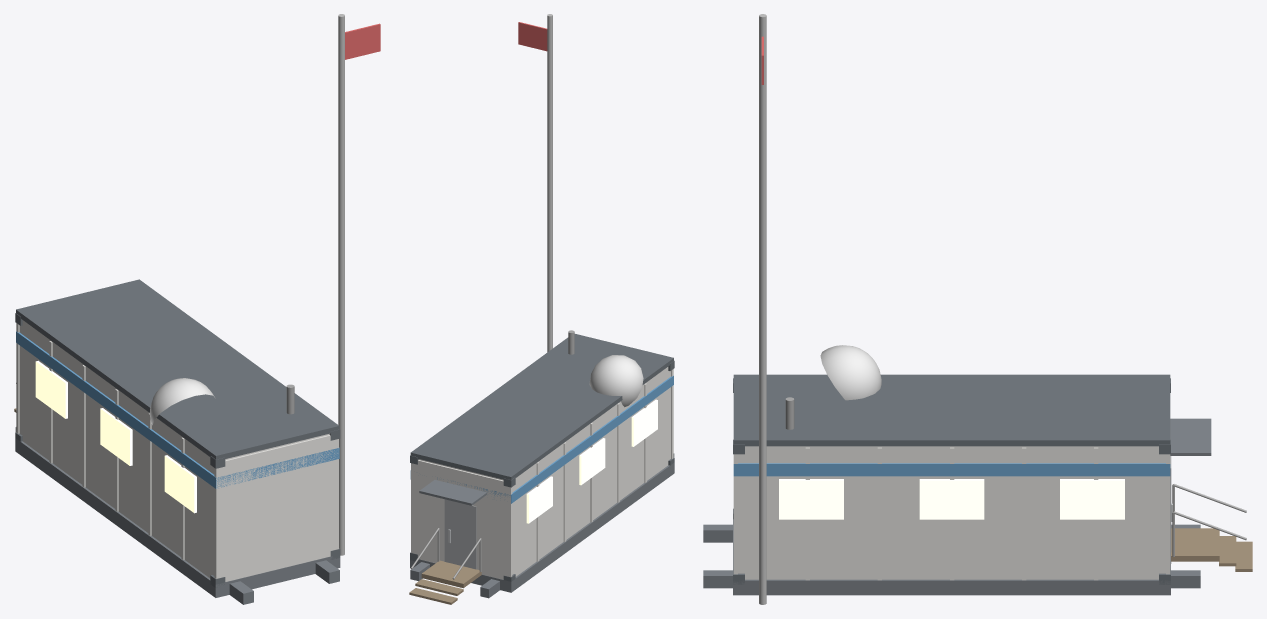
File: office.glb
The picture shows the model from 3 angles, left to right: view 1: azimuth 30°, elevation 25°; view 2: azimuth 150°, elevation 25°; view 3: azimuth 270°, elevation 25°; orthographic projection. The views are drawn at different scales.
Parts seen in each view (by area): view 1: object 10, object 1, object 9, object 2, object 11, object 31, object 13, object 14, object 12, object 33, object 32, inst; view 2: object 10, object 1, object 3, object 2, object 18, object 31, object 33, object 11, inst (×2), object 19, object 24, object 12 (+3 smaller); view 3: object 1, object 10, object 2, object 11, object 31, object 16, object 15, object 17, object 33, object 19, object 24, object 27 (+1 smaller).
Boxes of the visible parts, box(x1,y1,x2,y2) form: object 10: box(16, 279, 339, 459); object 1: box(19, 320, 329, 578); object 9: box(214, 435, 338, 581); object 2: box(15, 438, 340, 597); object 11: box(16, 331, 339, 488); object 31: box(338, 14, 344, 555); object 13: box(100, 408, 132, 465); object 14: box(164, 455, 196, 513); object 12: box(35, 360, 67, 418); object 33: box(149, 378, 215, 425); object 32: box(345, 23, 380, 59); inst: box(15, 313, 340, 587); object 10: box(410, 334, 673, 479); object 1: box(418, 367, 670, 576); object 3: box(411, 460, 512, 579); object 2: box(410, 462, 674, 592); object 18: box(444, 499, 476, 569); object 31: box(547, 14, 552, 352); object 33: box(589, 355, 643, 407); object 11: box(410, 375, 673, 503); inst (×2): box(409, 360, 674, 604); object 19: box(421, 560, 481, 588); object 24: box(419, 480, 486, 505); object 12: box(526, 476, 552, 523); object 1: box(738, 446, 1165, 579); object 10: box(733, 374, 1170, 446); object 2: box(733, 519, 1170, 595); object 11: box(733, 463, 1170, 476); object 31: box(759, 14, 766, 604); object 16: box(919, 479, 984, 519); object 15: box(1060, 479, 1124, 519); object 17: box(779, 479, 843, 519); object 33: box(820, 345, 881, 400); object 19: box(1171, 528, 1219, 561); object 24: box(1170, 418, 1211, 455); object 27: box(703, 570, 1200, 588).
Size of the model in its own units: 4.4 by 12.01 by 10.16.
